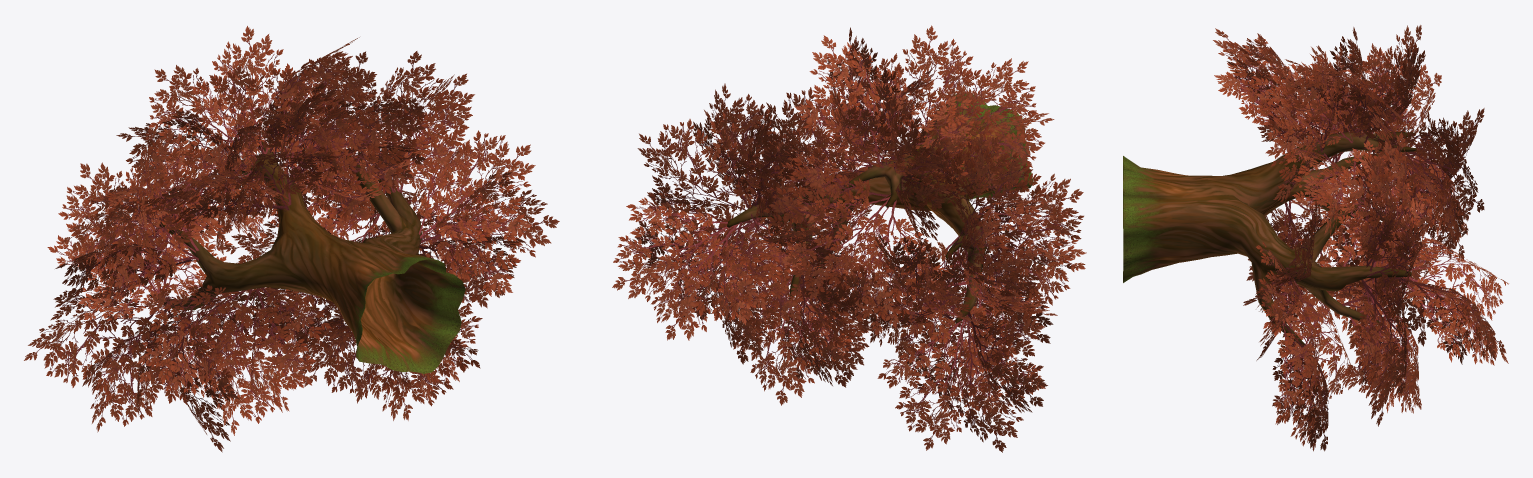
The model's file is deciduous_tree_1_LOD.fbx.
3 views of the same model, side by side, from view 1: azimuth 30°, elevation 25°; view 2: azimuth 150°, elevation 25°; view 3: azimuth 270°, elevation 25° (orthographic). The views are drawn at different scales.
Parts seen in each view (by area): view 1: Deciduous_tree1_LOD0; view 2: Deciduous_tree1_LOD0; view 3: Deciduous_tree1_LOD0.
Part boxes in pixels (x1=…): Deciduous_tree1_LOD0: x1=24, y1=26, x2=559, y2=452; Deciduous_tree1_LOD0: x1=612, y1=25, x2=1086, y2=452; Deciduous_tree1_LOD0: x1=1123, y1=25, x2=1508, y2=451.
Size of what is drawn, in the model's own units: 1632 by 1309 by 1217.
